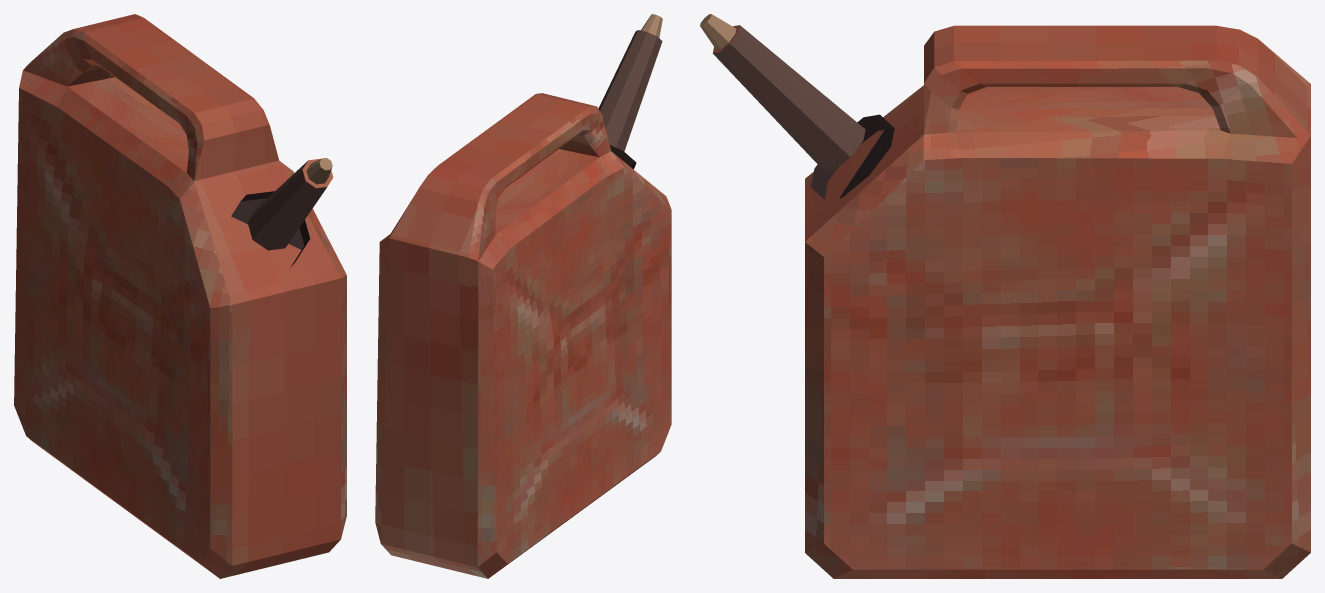
The model's file is GasCan.fbx.
3 views of the same model, side by side, from view 1: azimuth 30°, elevation 25°; view 2: azimuth 150°, elevation 25°; view 3: azimuth 270°, elevation 25° (orthographic). The views are drawn at different scales.
Visible parts, largest first — view 1: Cube; view 2: Cube; view 3: Cube.
Part boxes in pixels (x1,y1,x2,y2): Cube: (14,14,346,578); Cube: (375,14,671,578); Cube: (700,14,1310,578).
Size of the model in its own units: 18.17 by 56.64 by 59.06.
